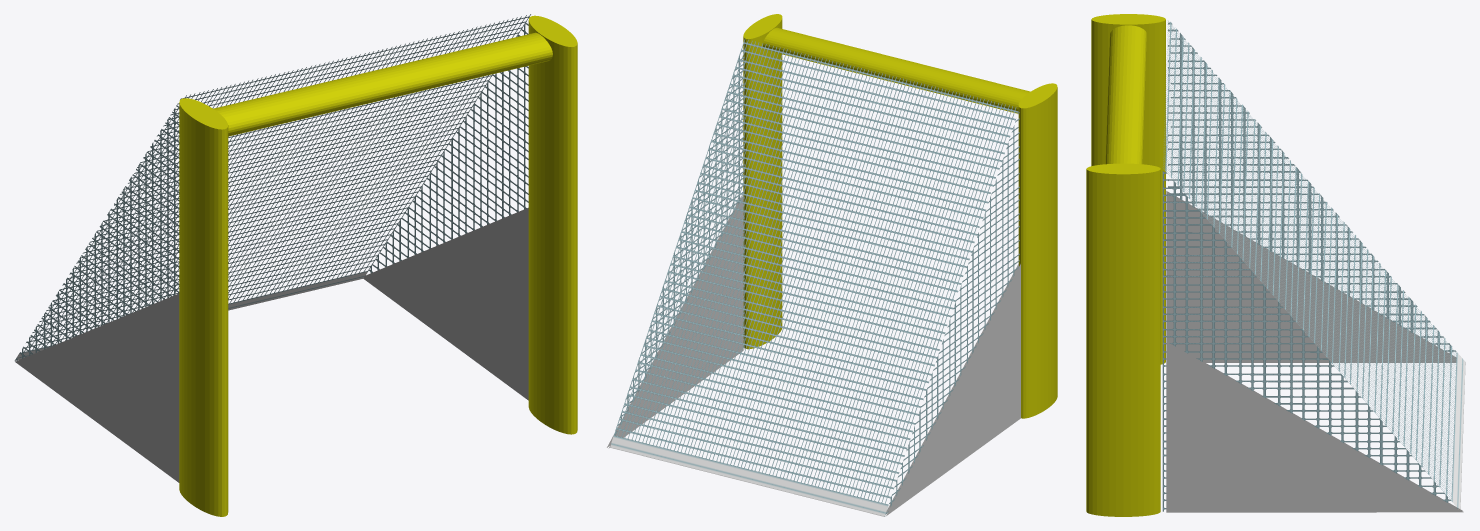
Rendered from leftgoal.obj.
3 views of the same model, side by side, from view 1: azimuth 30°, elevation 25°; view 2: azimuth 150°, elevation 25°; view 3: azimuth 270°, elevation 25° (orthographic). The views are drawn at different scales.
Visible parts, largest first — view 1: Cylinder; view 2: Cylinder; view 3: Cylinder.
Boxes of the visible parts, x1,y1,x2,y2 form: Cylinder: (14,14,577,516); Cylinder: (607,14,1057,516); Cylinder: (1086,14,1465,516).
Size of the model in its own units: 1 by 1 by 1.
